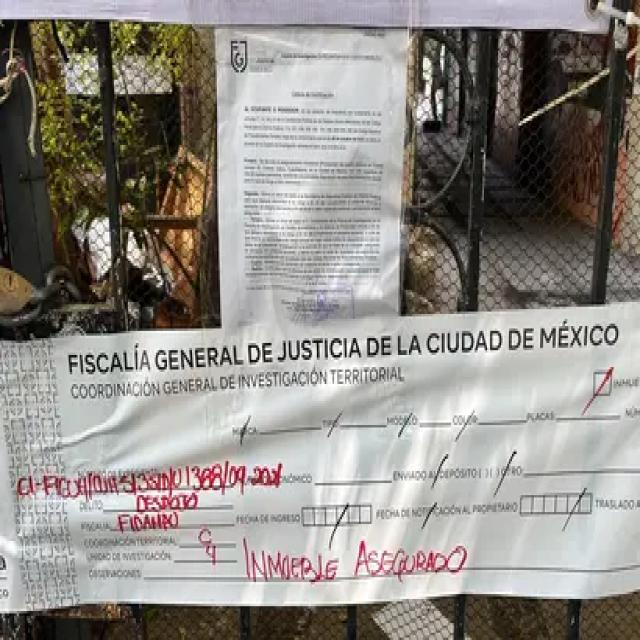stamps: (4, 314, 638, 610)
